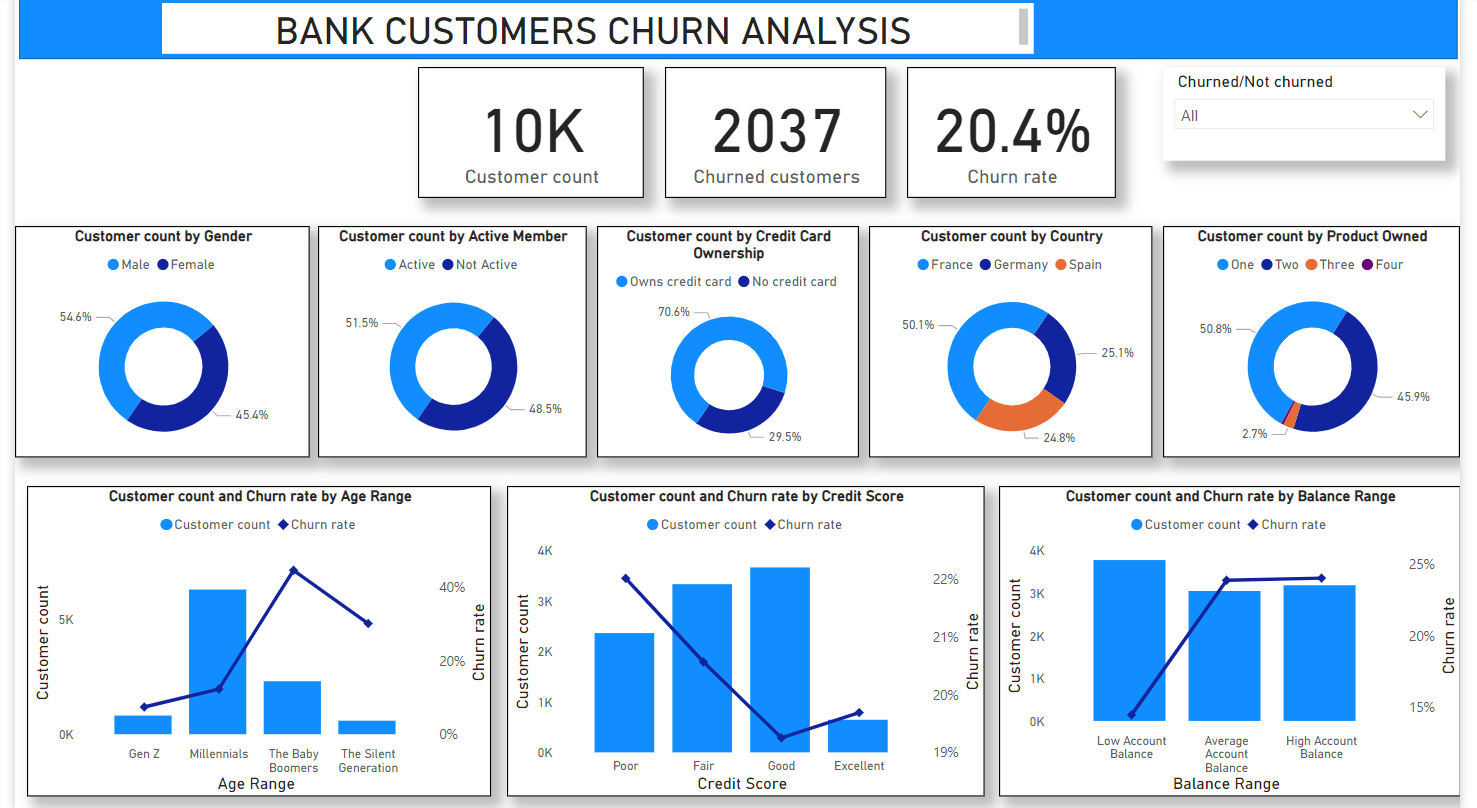

The page's visual inventory and layout, read from the dashboard file:
{"tool":"powerbi","page":{"name":"Dashboard","canvas":[1280,720],"ordinal":0},"visuals":[{"type":"card","fields":{"Values":["Bank Customer Churn data.Customer count"]},"box":[356.9,61.7,200.3,116.3],"z":0},{"type":"donutChart","fields":{"Category":["Bank Customer Churn data.Gender"],"Y":["Bank Customer Churn data.Customer count"]},"box":[0,203,261.2,204.8],"z":1000},{"type":"card","fields":{"Values":["Bank Customer Churn data.Churn customers"]},"box":[576,61.7,195.9,116.3],"z":2000},{"type":"card","fields":{"Values":["Bank Customer Churn data.Churn rate"]},"box":[789.8,61.7,185.1,116.3],"z":3000},{"type":"lineClusteredColumnComboChart","fields":{"Category":["Age-dim.Age Range"],"Y":["Bank Customer Churn data.Customer count"],"Y2":["Bank Customer Churn data.Churn rate"]},"box":[10.7,432.9,411.4,274.6],"z":4000},{"type":"lineClusteredColumnComboChart","fields":{"Y":["Bank Customer Churn data.Customer count"],"Category":["Credit Score-dim.Credit Score"],"Y2":["Bank Customer Churn data.Churn rate"]},"box":[435.6,432.9,423.1,274.6],"z":5000},{"type":"donutChart","fields":{"Category":["Bank Customer Churn data.Active Member"],"Y":["Bank Customer Churn data.Customer count"]},"box":[268.3,203,237.9,204.8],"z":6000},{"type":"donutChart","fields":{"Category":["Bank Customer Churn data.Owns Credit Card"],"Y":["Bank Customer Churn data.Customer count"]},"box":[515.2,203,231.7,204.8],"z":7000},{"type":"donutChart","fields":{"Y":["Bank Customer Churn data.Customer count"],"Category":["Bank Customer Churn data.Country"]},"box":[756.7,203,251.3,204.8],"z":8000},{"type":"donutChart","fields":{"Y":["Bank Customer Churn data.Customer count"],"Category":["Bank Customer Churn data.Product Owned"]},"box":[1016.9,203,263,204.8],"z":9000},{"type":"lineClusteredColumnComboChart","fields":{"Y":["Bank Customer Churn data.Customer count"],"Y2":["Bank Customer Churn data.Churn rate"],"Category":["Balance Range-dim.Balance Range"]},"box":[871.2,432.9,408.7,275.5],"z":10000},{"type":"slicer","fields":{"Values":["Churnn.Churned/Not churned"]},"box":[1016.9,61.7,250.4,83.2],"z":11000},{"type":"shape","box":[3.6,0,1273.6,54.6],"z":12000},{"type":"textbox","box":[130.6,5.4,771.9,44.7],"z":13000}]}

Visuals, with their boxes in screenshot pixels (x1, y1, x2, y2), scaled from the page's 1280x720 canvas onto the 1477x808 screenshot:
card - Bank Customer Churn data.Customer count: {"x1": 412, "y1": 69, "x2": 643, "y2": 200}
donutChart - Bank Customer Churn data.Gender x Bank Customer Churn data.Customer count: {"x1": 0, "y1": 228, "x2": 301, "y2": 458}
card - Bank Customer Churn data.Churn customers: {"x1": 665, "y1": 69, "x2": 891, "y2": 200}
card - Bank Customer Churn data.Churn rate: {"x1": 911, "y1": 69, "x2": 1125, "y2": 200}
lineClusteredColumnComboChart - Age-dim.Age Range x Bank Customer Churn data.Customer count: {"x1": 12, "y1": 486, "x2": 487, "y2": 794}
lineClusteredColumnComboChart - Bank Customer Churn data.Customer count x Credit Score-dim.Credit Score: {"x1": 503, "y1": 486, "x2": 991, "y2": 794}
donutChart - Bank Customer Churn data.Active Member x Bank Customer Churn data.Customer count: {"x1": 310, "y1": 228, "x2": 584, "y2": 458}
donutChart - Bank Customer Churn data.Owns Credit Card x Bank Customer Churn data.Customer count: {"x1": 594, "y1": 228, "x2": 862, "y2": 458}
donutChart - Bank Customer Churn data.Customer count x Bank Customer Churn data.Country: {"x1": 873, "y1": 228, "x2": 1163, "y2": 458}
donutChart - Bank Customer Churn data.Customer count x Bank Customer Churn data.Product Owned: {"x1": 1173, "y1": 228, "x2": 1476, "y2": 458}
lineClusteredColumnComboChart - Bank Customer Churn data.Customer count x Bank Customer Churn data.Churn rate: {"x1": 1005, "y1": 486, "x2": 1476, "y2": 795}
slicer - Churnn.Churned/Not churned: {"x1": 1173, "y1": 69, "x2": 1462, "y2": 163}
shape: {"x1": 4, "y1": 0, "x2": 1474, "y2": 61}
textbox: {"x1": 151, "y1": 6, "x2": 1041, "y2": 56}
